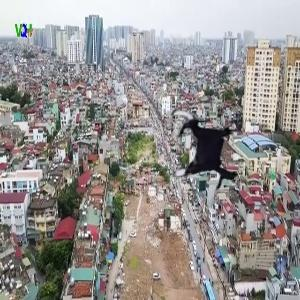drone: (151, 101, 254, 204)
